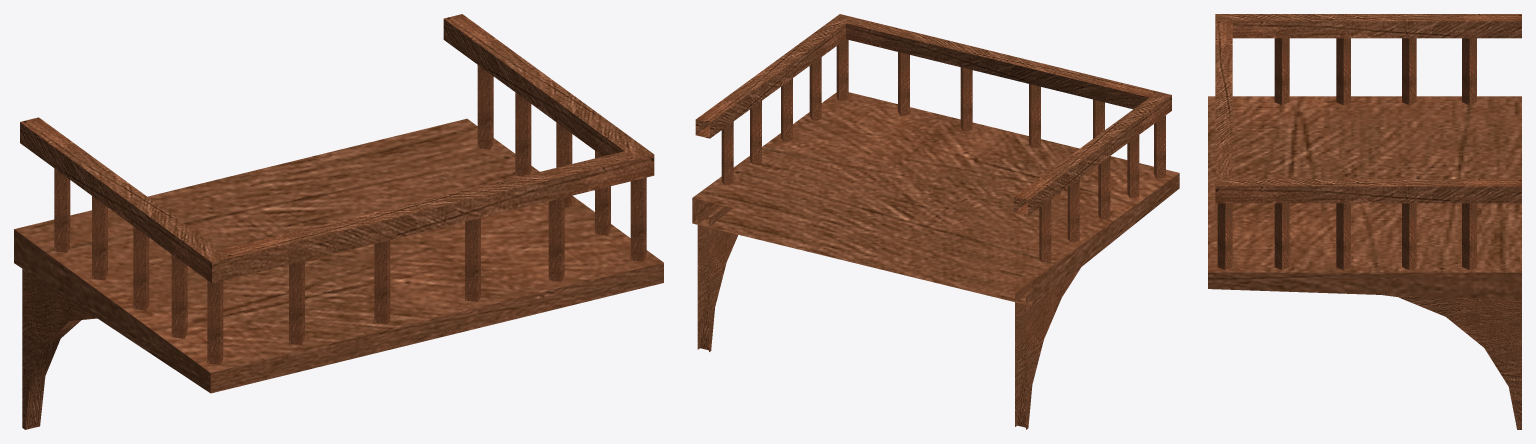
File: fanasty_mod_balcony02.fbx
3 renders of one model, left to right at view 1: azimuth 30°, elevation 25°; view 2: azimuth 150°, elevation 25°; view 3: azimuth 270°, elevation 25°, orthographic. The views are drawn at different scales.
Parts seen in each view (by area): view 1: balcony_02; view 2: balcony_02; view 3: balcony_02.
Boxes of the visible parts, box(x1,y1,x2,y2) form: balcony_02: box(14, 14, 663, 429); balcony_02: box(692, 14, 1179, 429); balcony_02: box(1208, 14, 1521, 429).
Size of the model in its own units: 3.6 by 2.33 by 2.71.
